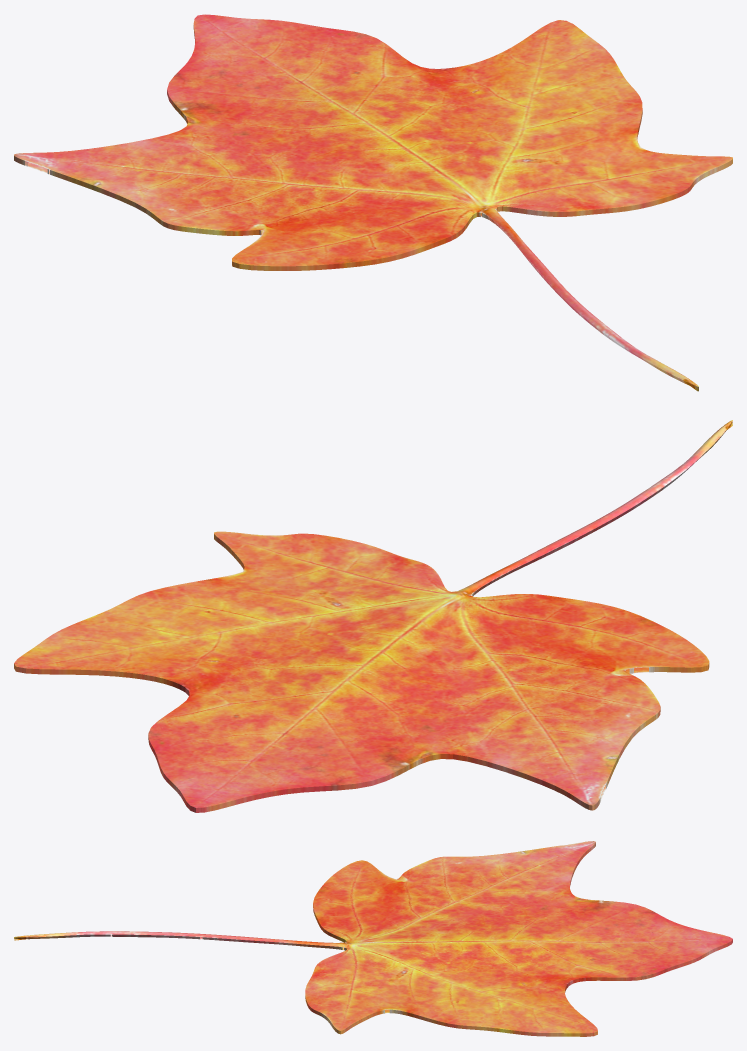
File: leaf_1.fbx
3 views of the same model, one above another, from view 1: azimuth 30°, elevation 25°; view 2: azimuth 150°, elevation 25°; view 3: azimuth 270°, elevation 25° (orthographic). The views are drawn at different scales.
Visible parts, largest first — view 1: m_waterDrop_leaf_01; view 2: m_waterDrop_leaf_01; view 3: m_waterDrop_leaf_01.
Part boxes in pixels (<box>): m_waterDrop_leaf_01: <box>14,14,732,391</box>; m_waterDrop_leaf_01: <box>14,420,732,812</box>; m_waterDrop_leaf_01: <box>14,841,732,1036</box>.
Size of the model in its own units: 120 by 2.43 by 190.
